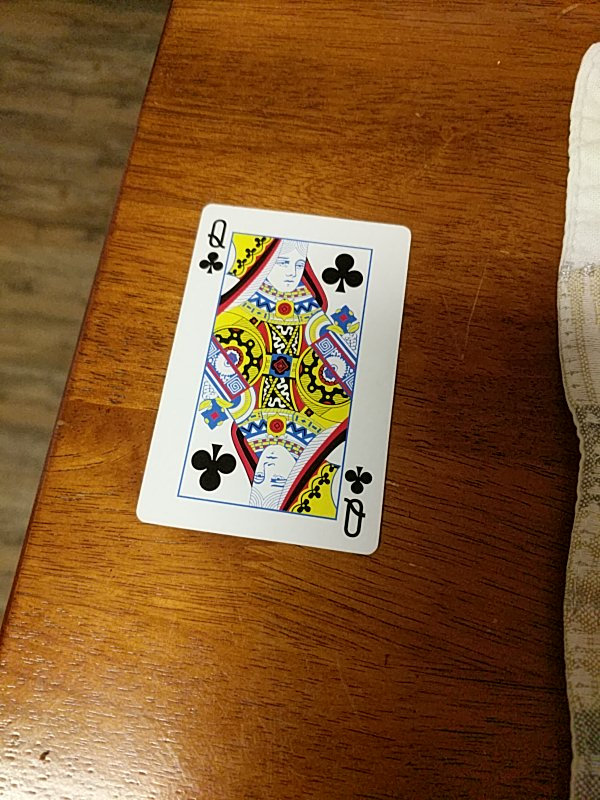Clubs: (129, 204, 413, 555)
